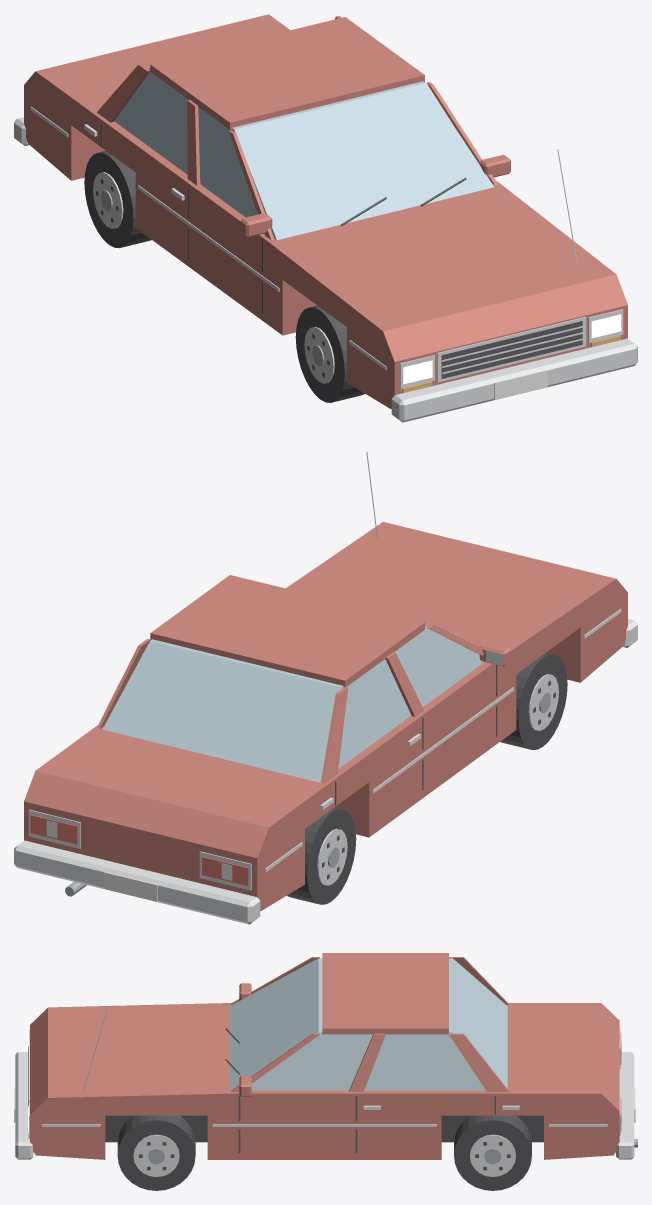
The model's file is car_sedan_r.glb.
3 renders of one model, top to bottom at view 1: azimuth 30°, elevation 25°; view 2: azimuth 150°, elevation 25°; view 3: azimuth 270°, elevation 25°, orthographic. The views are drawn at different scales.
Parts seen in each view (by area): view 1: car_sedan_r_car_r, car_sedan_r_glass, car_sedan_r_chrome, car_sedan_r_rubber, car_sedan_r_dark, car_sedan_r_lamp_glass, car_sedan_r_paint_w; view 2: car_sedan_r_car_r, car_sedan_r_glass, car_sedan_r_chrome, car_sedan_r_rubber, car_sedan_r_neon_r, car_sedan_r_paint_w; view 3: car_sedan_r_car_r, car_sedan_r_glass, car_sedan_r_rubber, car_sedan_r_chrome, car_sedan_r_dark, car_sedan_r_steel.
Part boxes in pixels (left/top/right/bottom): car_sedan_r_car_r: left=24, top=14, right=627, bottom=408; car_sedan_r_glass: left=114, top=68, right=493, bottom=240; car_sedan_r_chrome: left=14, top=106, right=637, bottom=422; car_sedan_r_rubber: left=84, top=150, right=364, bottom=402; car_sedan_r_dark: left=96, top=122, right=582, bottom=378; car_sedan_r_lamp_glass: left=403, top=314, right=621, bottom=384; car_sedan_r_paint_w: left=494, top=370, right=547, bottom=399; car_sedan_r_car_r: left=24, top=522, right=627, bottom=910; car_sedan_r_glass: left=102, top=626, right=483, bottom=782; car_sedan_r_chrome: left=14, top=451, right=637, bottom=924; car_sedan_r_rubber: left=287, top=652, right=567, bottom=904; car_sedan_r_neon_r: left=30, top=815, right=248, bottom=886; car_sedan_r_paint_w: left=46, top=820, right=232, bottom=901; car_sedan_r_car_r: left=30, top=953, right=619, bottom=1159; car_sedan_r_glass: left=229, top=958, right=507, bottom=1090; car_sedan_r_rubber: left=105, top=1115, right=543, bottom=1190; car_sedan_r_chrome: left=15, top=1008, right=634, bottom=1176; car_sedan_r_dark: left=28, top=1028, right=510, bottom=1170; car_sedan_r_steel: left=148, top=1139, right=637, bottom=1164.
Size of the model in its own units: 2 by 1.6 by 5.12.
